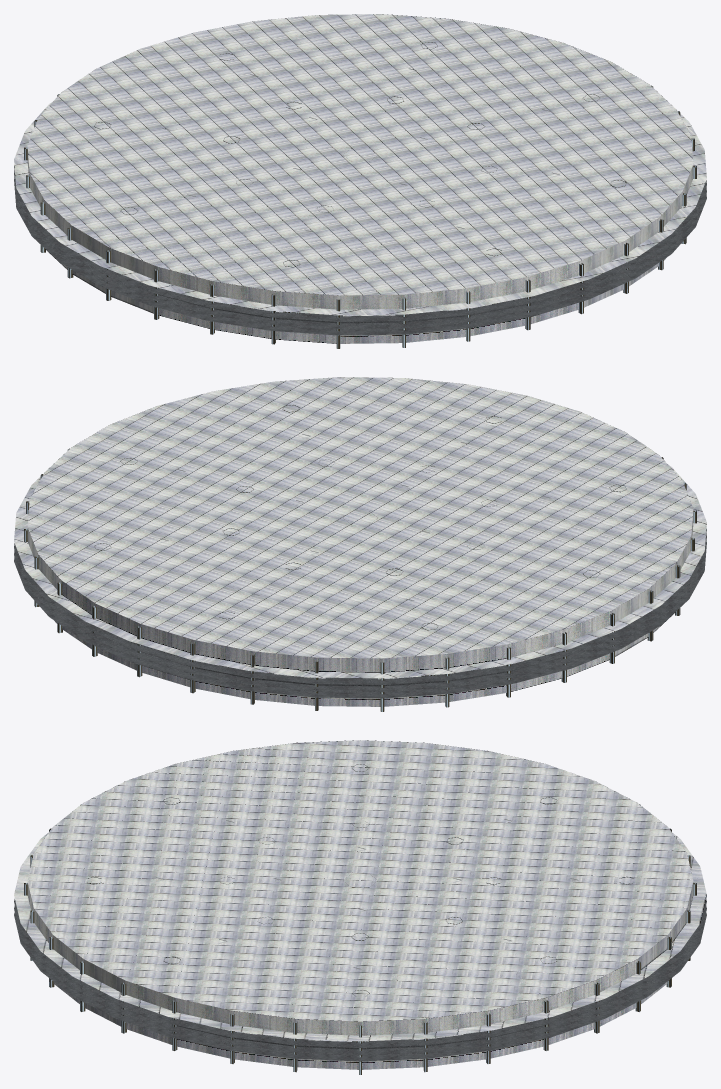
File: Floor 1.fbx
3 renders of one model, top to bottom at view 1: azimuth 30°, elevation 25°; view 2: azimuth 150°, elevation 25°; view 3: azimuth 270°, elevation 25°, orthographic.
Visible parts, largest first — view 1: main.001; view 2: main.001; view 3: main.001.
Part boxes in pixels (left/top/right/bottom): main.001: left=14, top=14, right=706, bottom=348; main.001: left=14, top=377, right=706, bottom=711; main.001: left=14, top=740, right=706, bottom=1074.
Size of what is drawn, in the model's own units: 20812 by 20812 by 2362.
